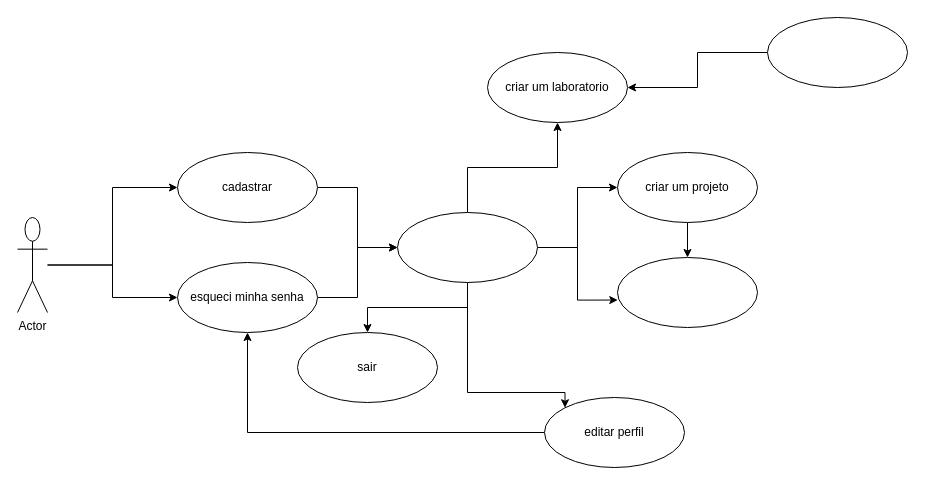
Some shapes in this 925 by 485 pixel diagram are drawn without their labels. The shapes that lost their labels are listed below. From the top down, each one's centre as x and y in pixels, then its label:
At (837,52): "adicionar outros usuarios ao laboratorio".
At (467,247): "autenticação".
At (687,292): "consultar projeto".
